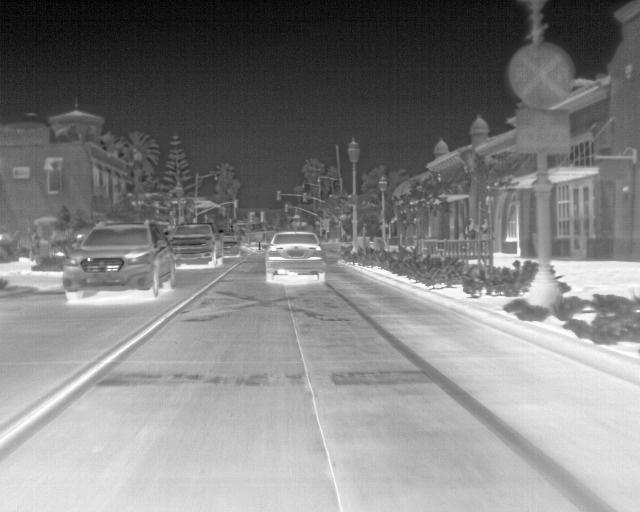bicycle: (60, 219, 175, 297), (264, 228, 328, 281), (170, 223, 223, 270), (220, 229, 239, 257)
